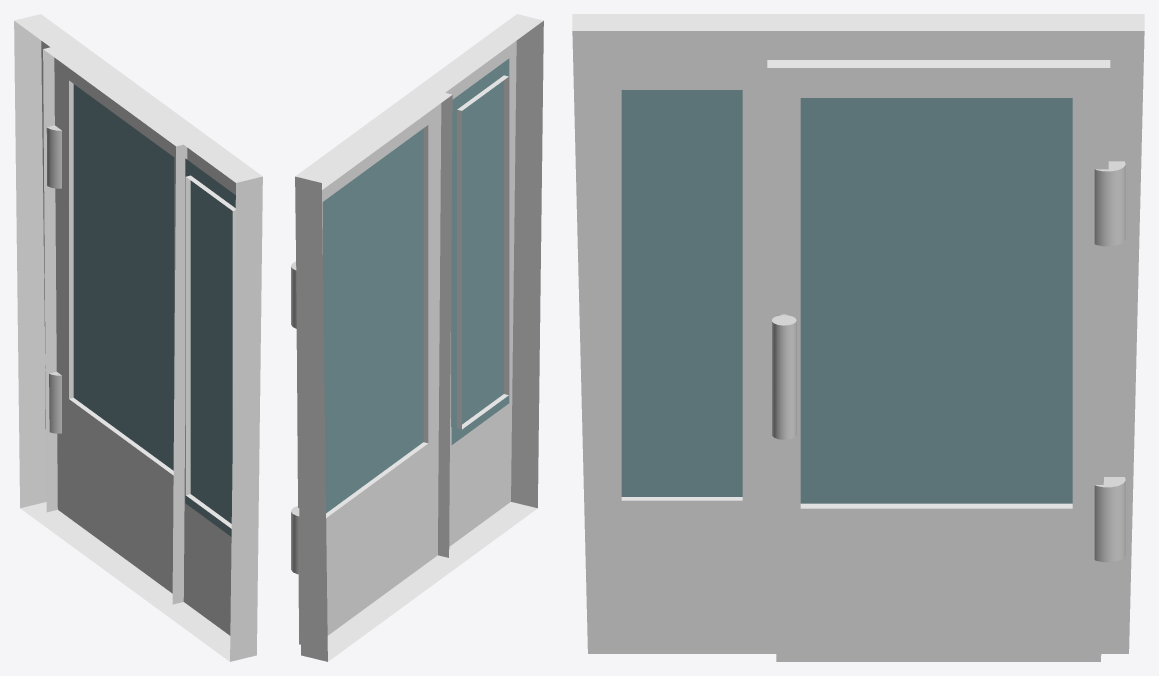
File: Tavern (door 1).fbx
3 renders of one model, left to right at view 1: azimuth 30°, elevation 25°; view 2: azimuth 150°, elevation 25°; view 3: azimuth 270°, elevation 25°, orthographic. The views are drawn at different scales.
Parts seen in each view (by area): view 1: Tavern (door 1); view 2: Tavern (door 1); view 3: Tavern (door 1).
Boxes of the visible parts, x1,y1,x2,y2 form: Tavern (door 1): (14, 14, 262, 661); Tavern (door 1): (291, 14, 543, 661); Tavern (door 1): (572, 14, 1144, 661).
Bounding box in the file's own units: 73.39 × 506 × 421.
